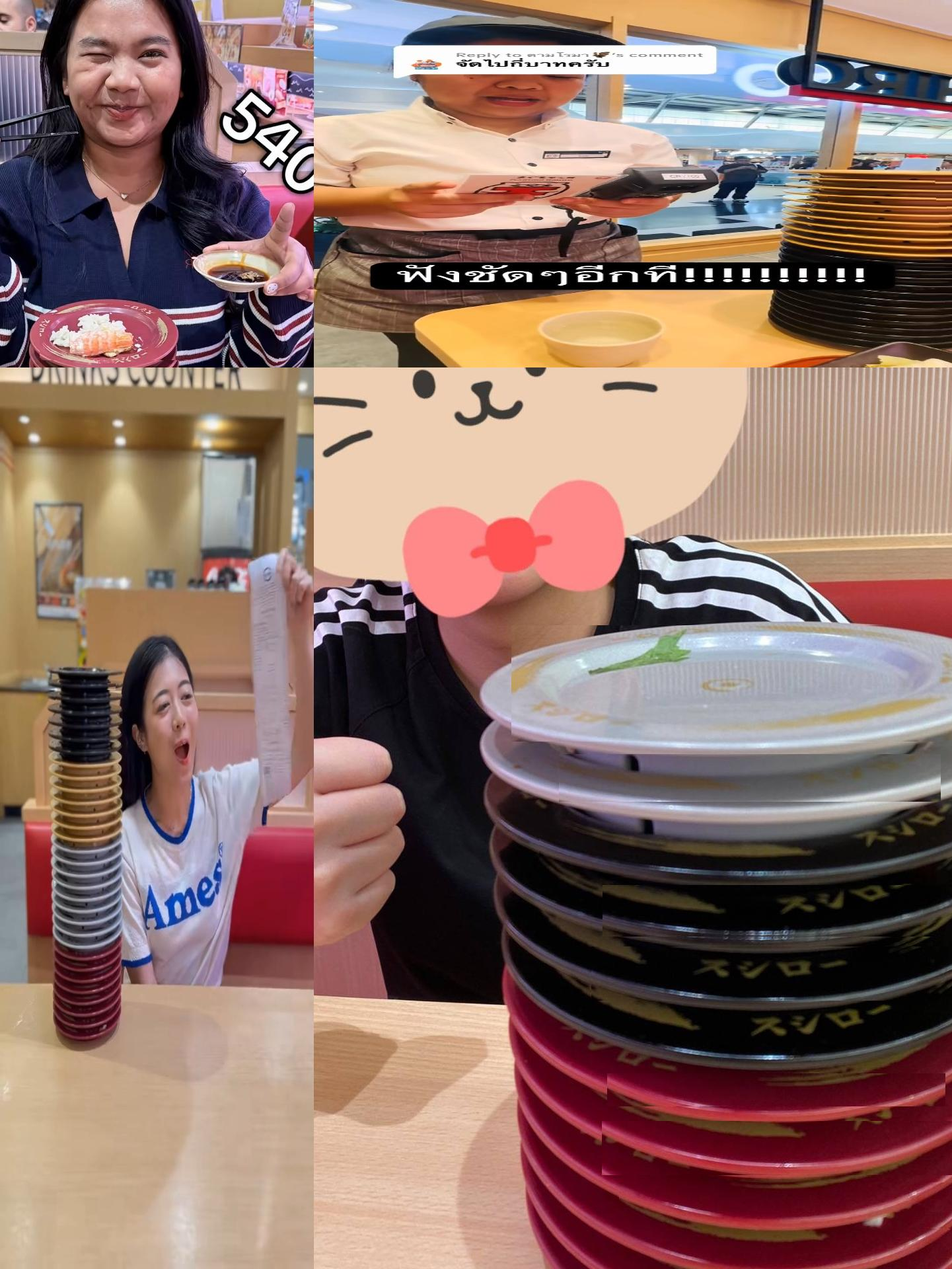Janback: (577, 882, 952, 941), (583, 945, 952, 1002), (538, 834, 952, 877), (615, 1008, 943, 1050), (499, 337, 573, 347), (566, 258, 638, 267), (548, 333, 638, 340), (552, 307, 638, 314), (547, 299, 638, 305), (62, 374, 120, 383), (553, 314, 638, 320), (554, 321, 638, 327), (557, 327, 638, 333), (563, 291, 638, 297), (580, 276, 638, 282), (584, 284, 638, 289), (585, 269, 638, 274), (58, 367, 123, 371)
Jangold: (474, 167, 634, 177), (485, 185, 638, 195), (479, 177, 630, 185), (507, 195, 630, 203), (517, 204, 636, 212), (536, 235, 638, 243), (522, 213, 637, 220), (56, 426, 117, 439), (58, 450, 117, 463), (528, 221, 632, 228), (532, 228, 636, 235), (57, 415, 117, 427), (540, 243, 638, 250), (58, 404, 119, 413), (59, 463, 113, 473), (60, 394, 119, 403), (57, 442, 115, 450), (548, 252, 638, 257)
Janred: (595, 1120, 952, 1176), (618, 1182, 952, 1229), (585, 1071, 952, 1108), (629, 1238, 952, 1269), (37, 313, 192, 362), (62, 639, 110, 650), (64, 583, 114, 593), (64, 651, 125, 659), (61, 606, 113, 614), (64, 661, 113, 669), (64, 617, 116, 623), (64, 629, 115, 635), (59, 596, 118, 601)
Janwhite: (500, 623, 952, 744), (536, 751, 952, 804), (62, 525, 114, 537), (58, 489, 115, 499), (59, 502, 117, 511), (64, 548, 114, 558), (63, 481, 124, 489), (65, 516, 118, 524), (65, 561, 117, 569), (65, 572, 114, 580), (63, 538, 110, 546)
